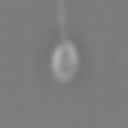normal: (51, 1, 70, 42)
